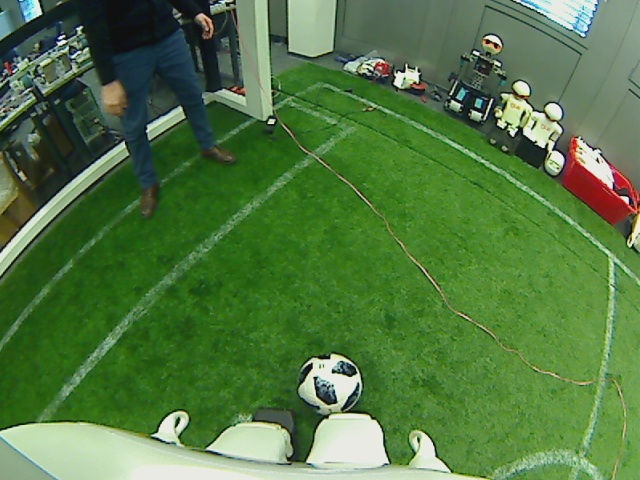ball: (294, 351, 365, 415)
